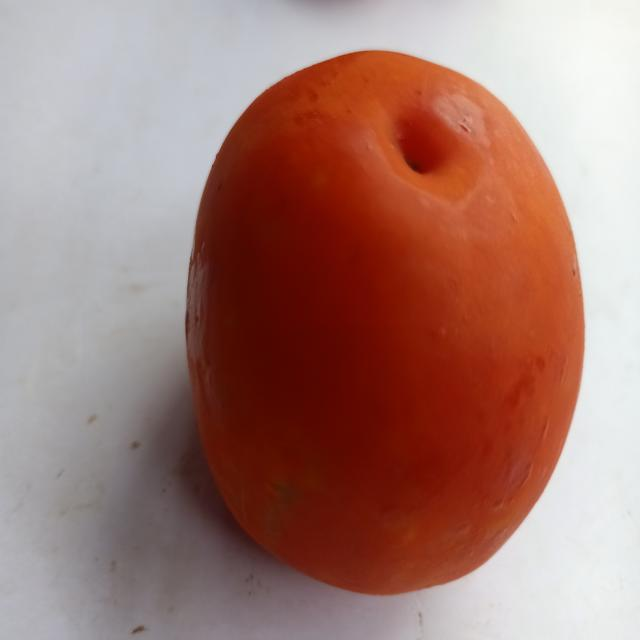Tomato: (168, 24, 603, 611)
